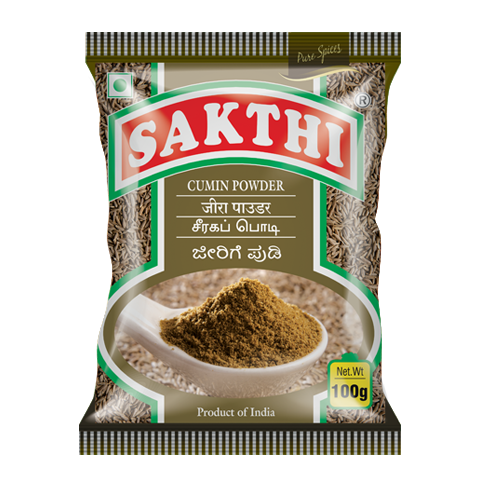VEG: (106, 70, 134, 100)
